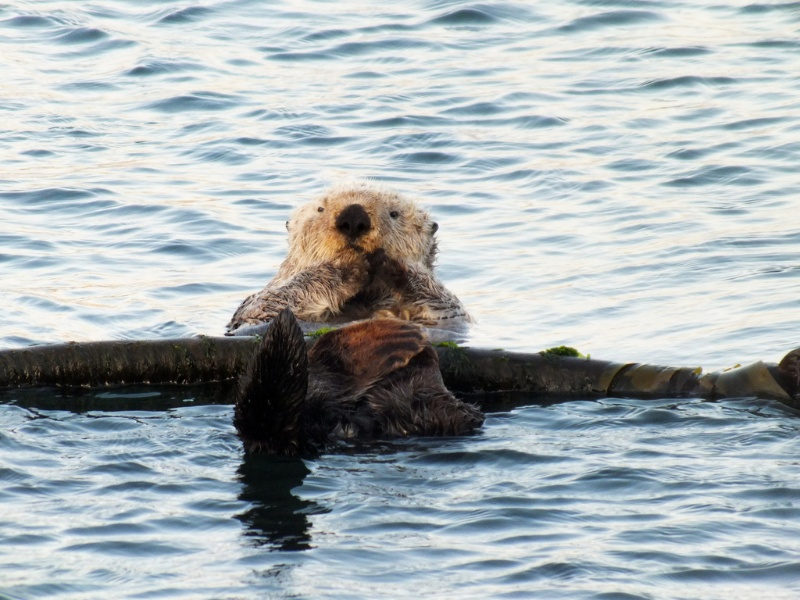minkish: (283, 187, 452, 283)
